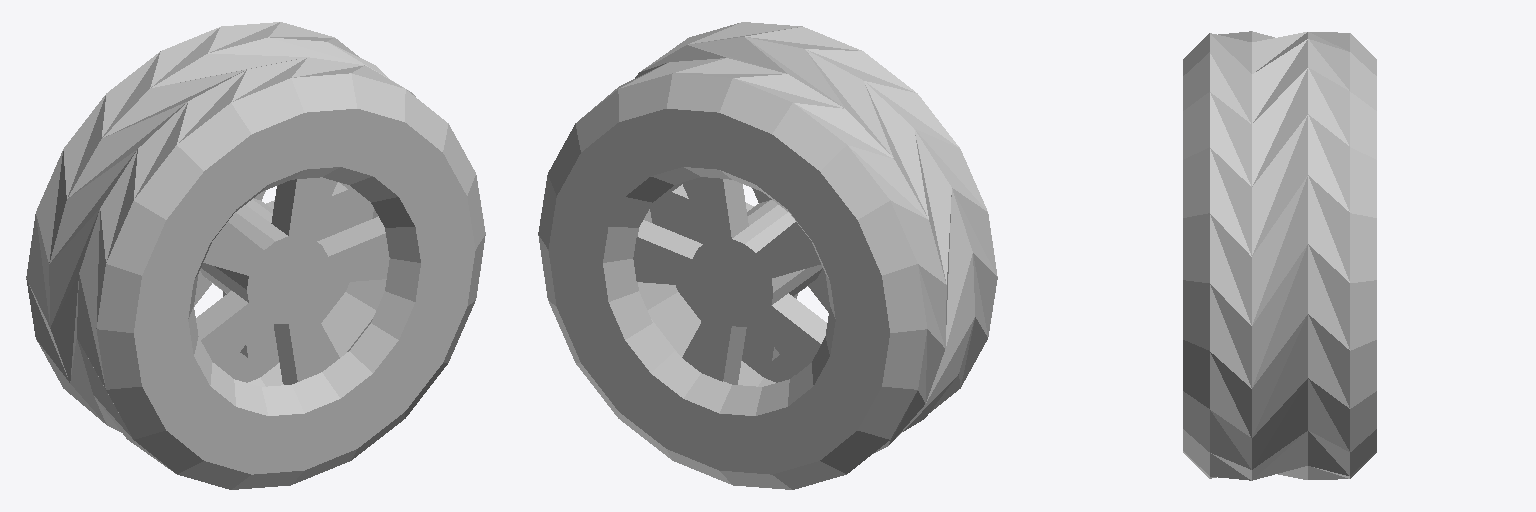
File: Tire Take 2 uv map.obj
The picture shows the model from 3 angles: view 1: azimuth 30°, elevation 25°; view 2: azimuth 150°, elevation 25°; view 3: azimuth 270°, elevation 25°; orthographic projection.
Parts seen in each view (by area): view 1: pCylinder4, pCylinder5; view 2: pCylinder4, pCylinder5; view 3: pCylinder4.
Part boxes in pixels (left/top/right/bottom): pCylinder4: left=26, top=22, right=485, bottom=489; pCylinder5: left=194, top=177, right=389, bottom=384; pCylinder4: left=538, top=22, right=997, bottom=489; pCylinder5: left=633, top=177, right=829, bottom=384; pCylinder4: left=1183, top=31, right=1376, bottom=480.
Size of the model in its own units: 3.28 by 3.28 by 1.42.